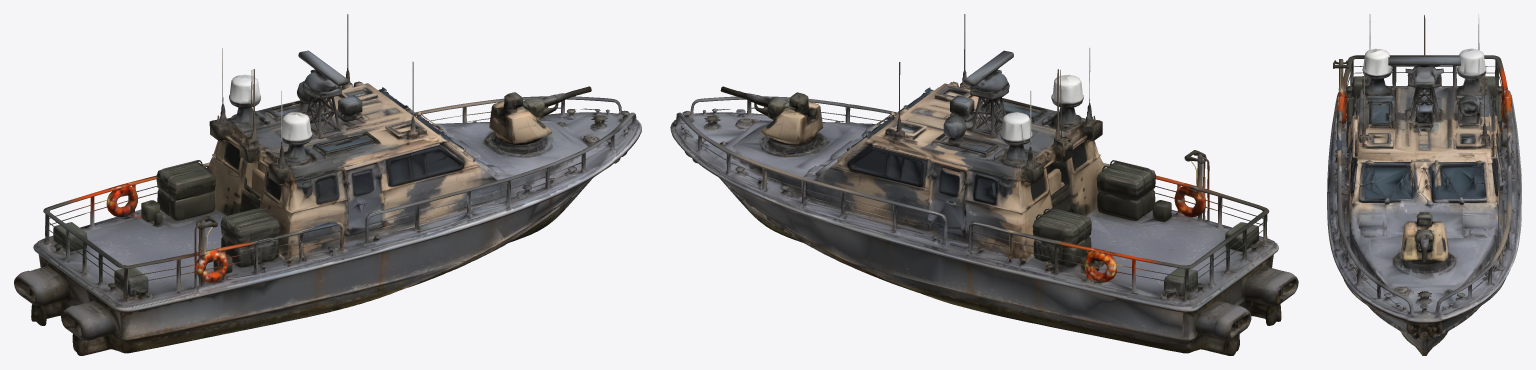
Rendered from boat_patrol.glb.
The picture shows the model from 3 angles, left to right: view 1: azimuth 30°, elevation 25°; view 2: azimuth 150°, elevation 25°; view 3: azimuth 270°, elevation 25°; orthographic projection. The views are drawn at different scales.
Visible parts, largest first — view 1: node_0; view 2: node_0; view 3: node_0.
Boxes of the visible parts, x1,y1,x2,y2 form: node_0: (14,14,641,355); node_0: (670,14,1298,355); node_0: (1327,14,1521,355).
Size of the model in its own units: 1.15 by 0.4441 by 0.3559.
Materials: 1 (1 with a texture image).
